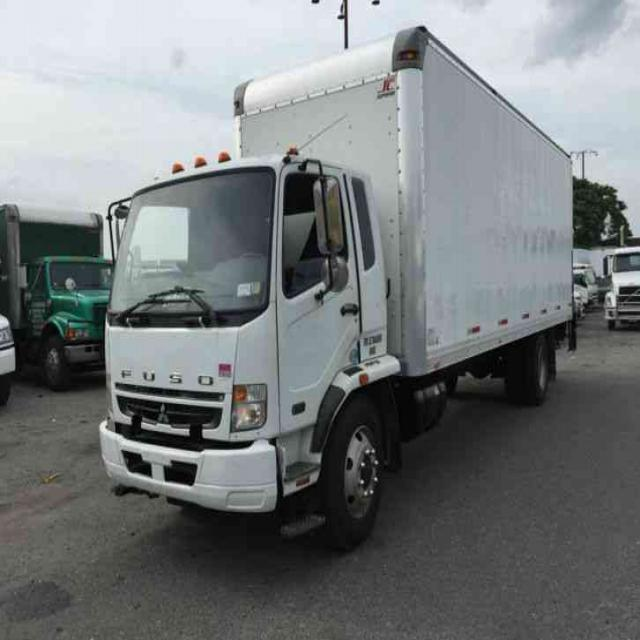truck: (98, 25, 572, 542)
